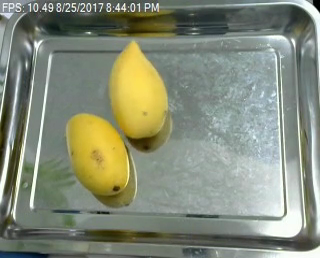Mango: (60, 110, 131, 200), (107, 42, 170, 138)
